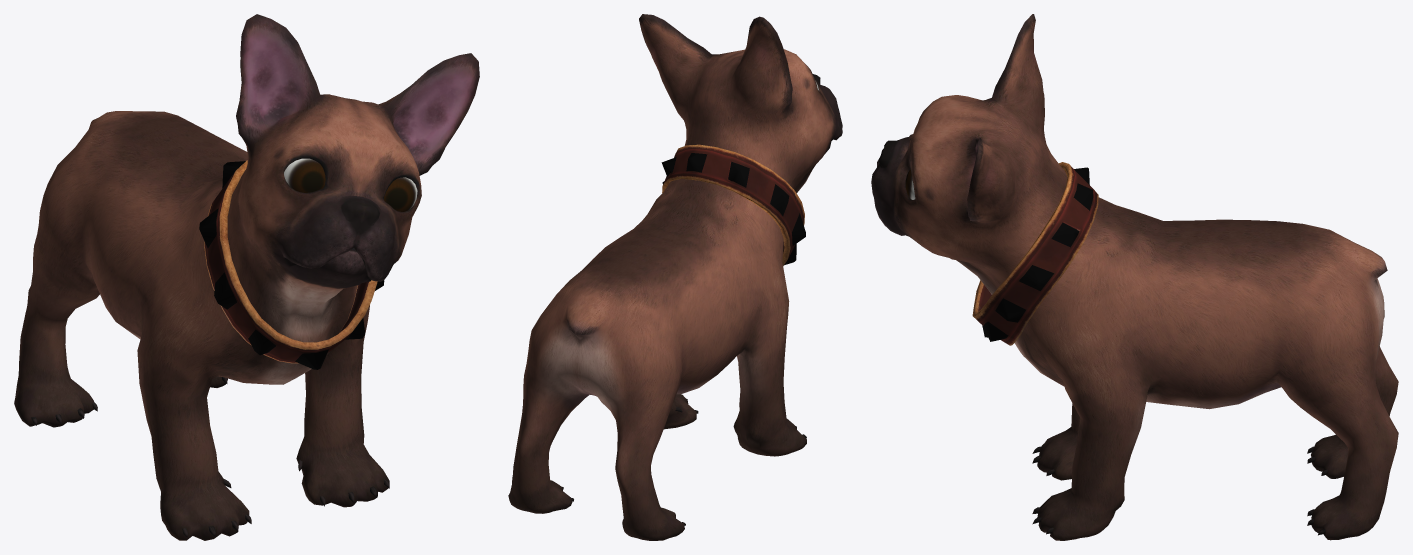
File: french_dog.glb
3 renders of one model, left to right at view 1: azimuth 30°, elevation 25°; view 2: azimuth 150°, elevation 25°; view 3: azimuth 270°, elevation 25°, orthographic. The views are drawn at different scales.
Parts seen in each view (by area): view 1: desirefx_me_8, desirefx_me_1, desirefx_me_3, desirefx_me_2, desirefx_me_4; view 2: desirefx_me_8, desirefx_me_1; view 3: desirefx_me_8, desirefx_me_1.
Part boxes in pixels (x1=…): desirefx_me_8: x1=14, y1=14, x2=479, y2=540; desirefx_me_1: x1=199, y1=160, x2=384, y2=369; desirefx_me_3: x1=284, y1=158, x2=325, y2=192; desirefx_me_2: x1=384, y1=177, x2=417, y2=211; desirefx_me_4: x1=31, y1=377, x2=389, y2=537; desirefx_me_8: x1=508, y1=14, x2=842, y2=540; desirefx_me_1: x1=661, y1=144, x2=805, y2=265; desirefx_me_8: x1=871, y1=14, x2=1398, y2=540; desirefx_me_1: x1=972, y1=162, x2=1098, y2=345.
Bounding box in the file's own units: 5.06 × 9.74 × 10.
8 materials, 8 textured.
